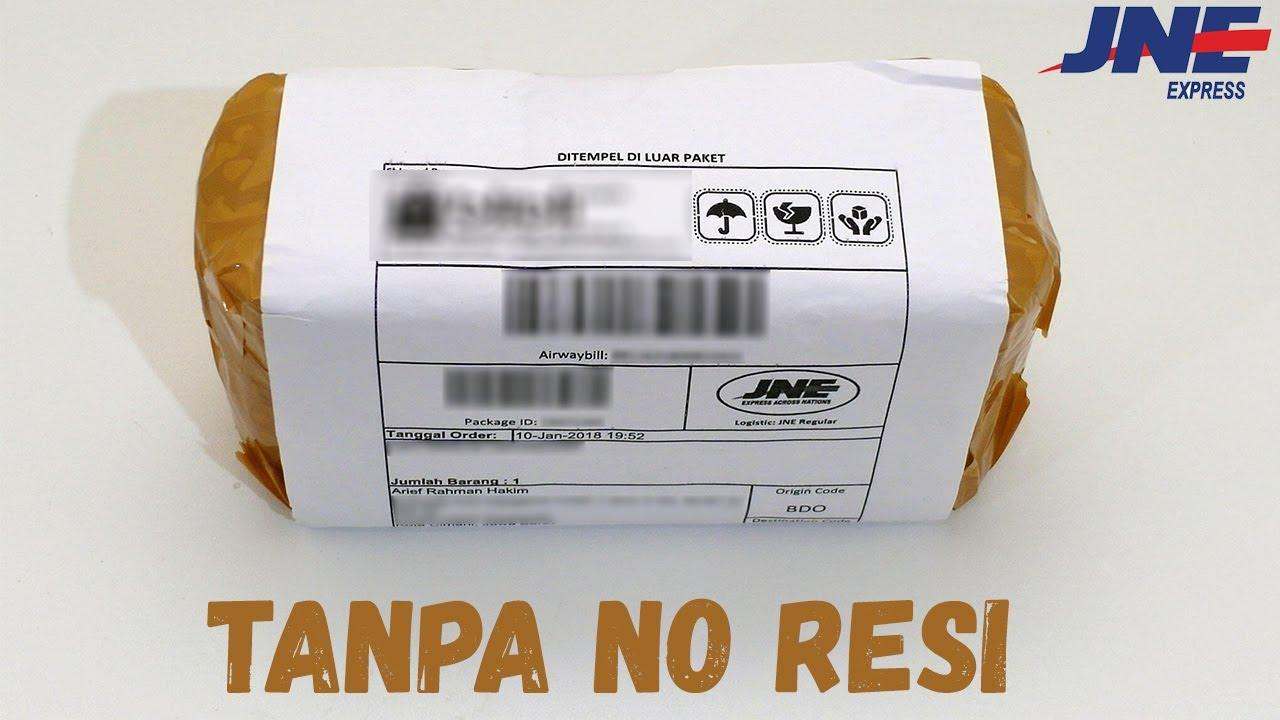undamaged: (178, 65, 1077, 543)
